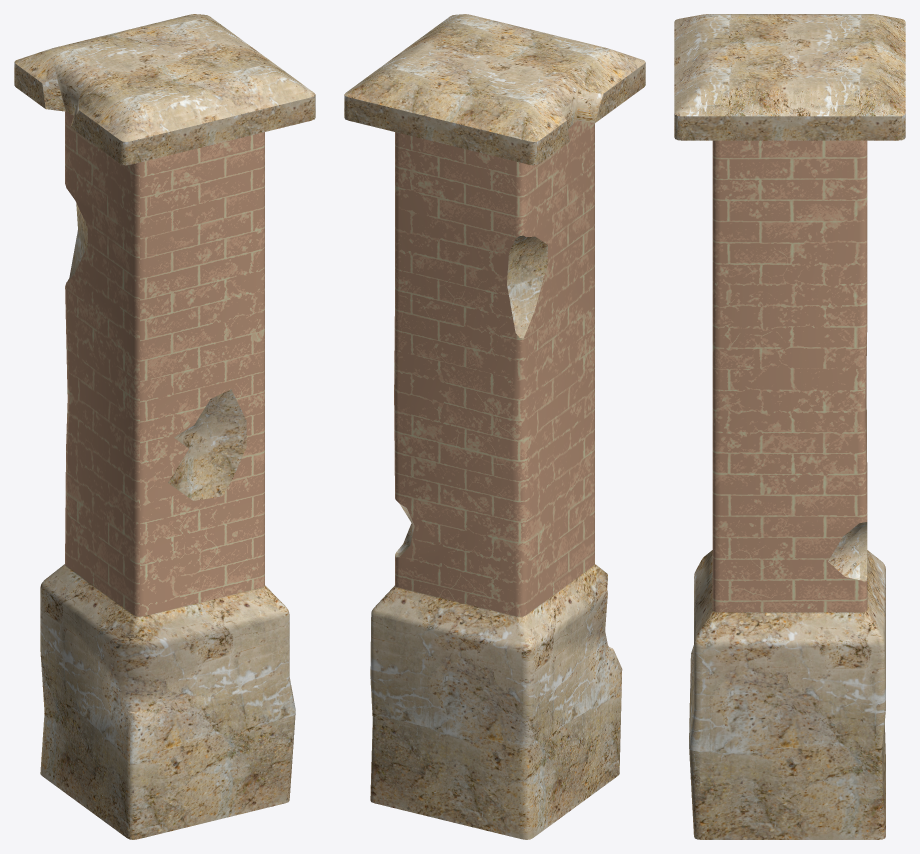
Rendered from SM_Wall_Pole_01_Damaged.FBX.
The picture shows the model from 3 angles, left to right: view 1: azimuth 30°, elevation 25°; view 2: azimuth 150°, elevation 25°; view 3: azimuth 270°, elevation 25°; orthographic projection. The views are drawn at different scales.
Parts seen in each view (by area): view 1: SM_Wall_Pole_01; view 2: SM_Wall_Pole_01; view 3: SM_Wall_Pole_01.
Part boxes in pixels (<box>): SM_Wall_Pole_01: <box>14,14,315,839</box>; SM_Wall_Pole_01: <box>344,14,645,839</box>; SM_Wall_Pole_01: <box>674,14,905,839</box>.
Size of the model in its own units: 1.6 by 5.74 by 1.6.
Materials: 2 (2 with a texture image).
